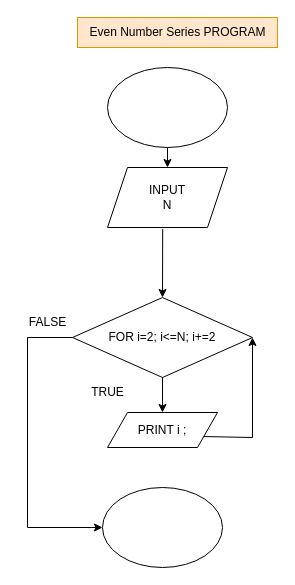
This 295x585 diagram has some shape labels left out. The shapes that lost their labels are listed below. From the top down, each one's centre as x and y in pixels, then its label:
the point at 167,107: START
the point at 162,527: STOP
